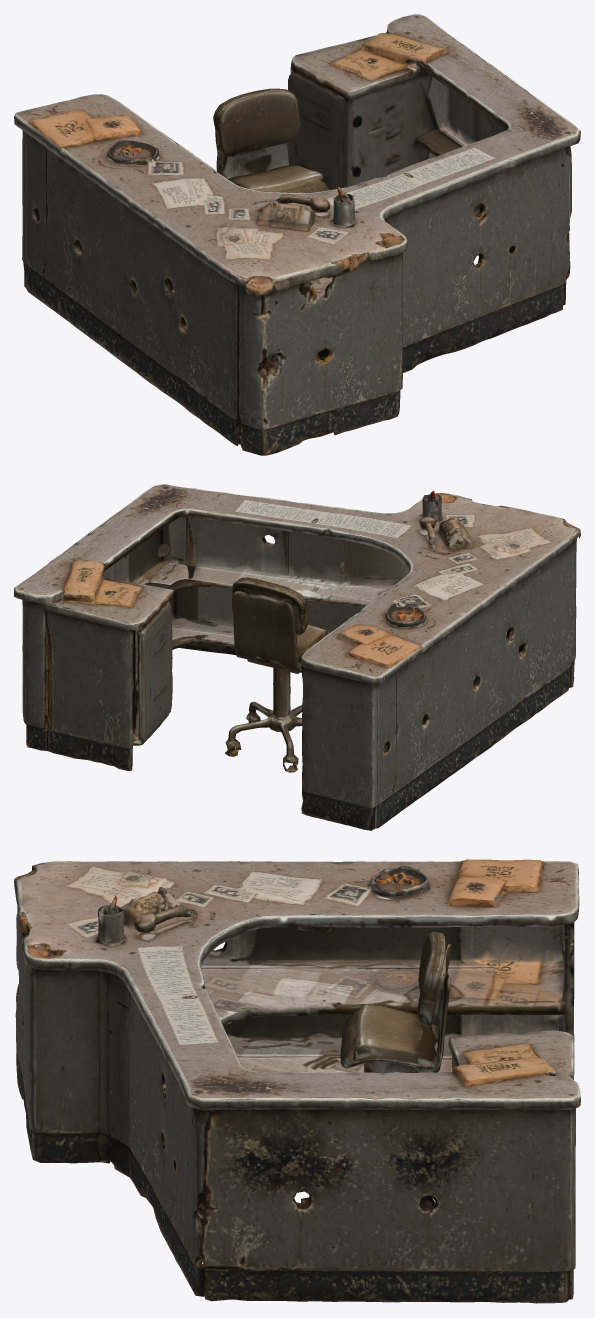
The model's file is BKI_Reception.fbx.
3 renders of one model, top to bottom at view 1: azimuth 30°, elevation 25°; view 2: azimuth 150°, elevation 25°; view 3: azimuth 270°, elevation 25°, orthographic. The views are drawn at different scales.
Parts seen in each view (by area): view 1: texture_mapping; view 2: texture_mapping; view 3: texture_mapping.
Boxes of the visible parts, x1=… form: texture_mapping: x1=14, y1=14, x2=580, y2=455; texture_mapping: x1=14, y1=484, x2=580, y2=830; texture_mapping: x1=14, y1=859, x2=580, y2=1303.
Size of the model in its own units: 1 by 1 by 0.5005.
1 material, 1 textured.
